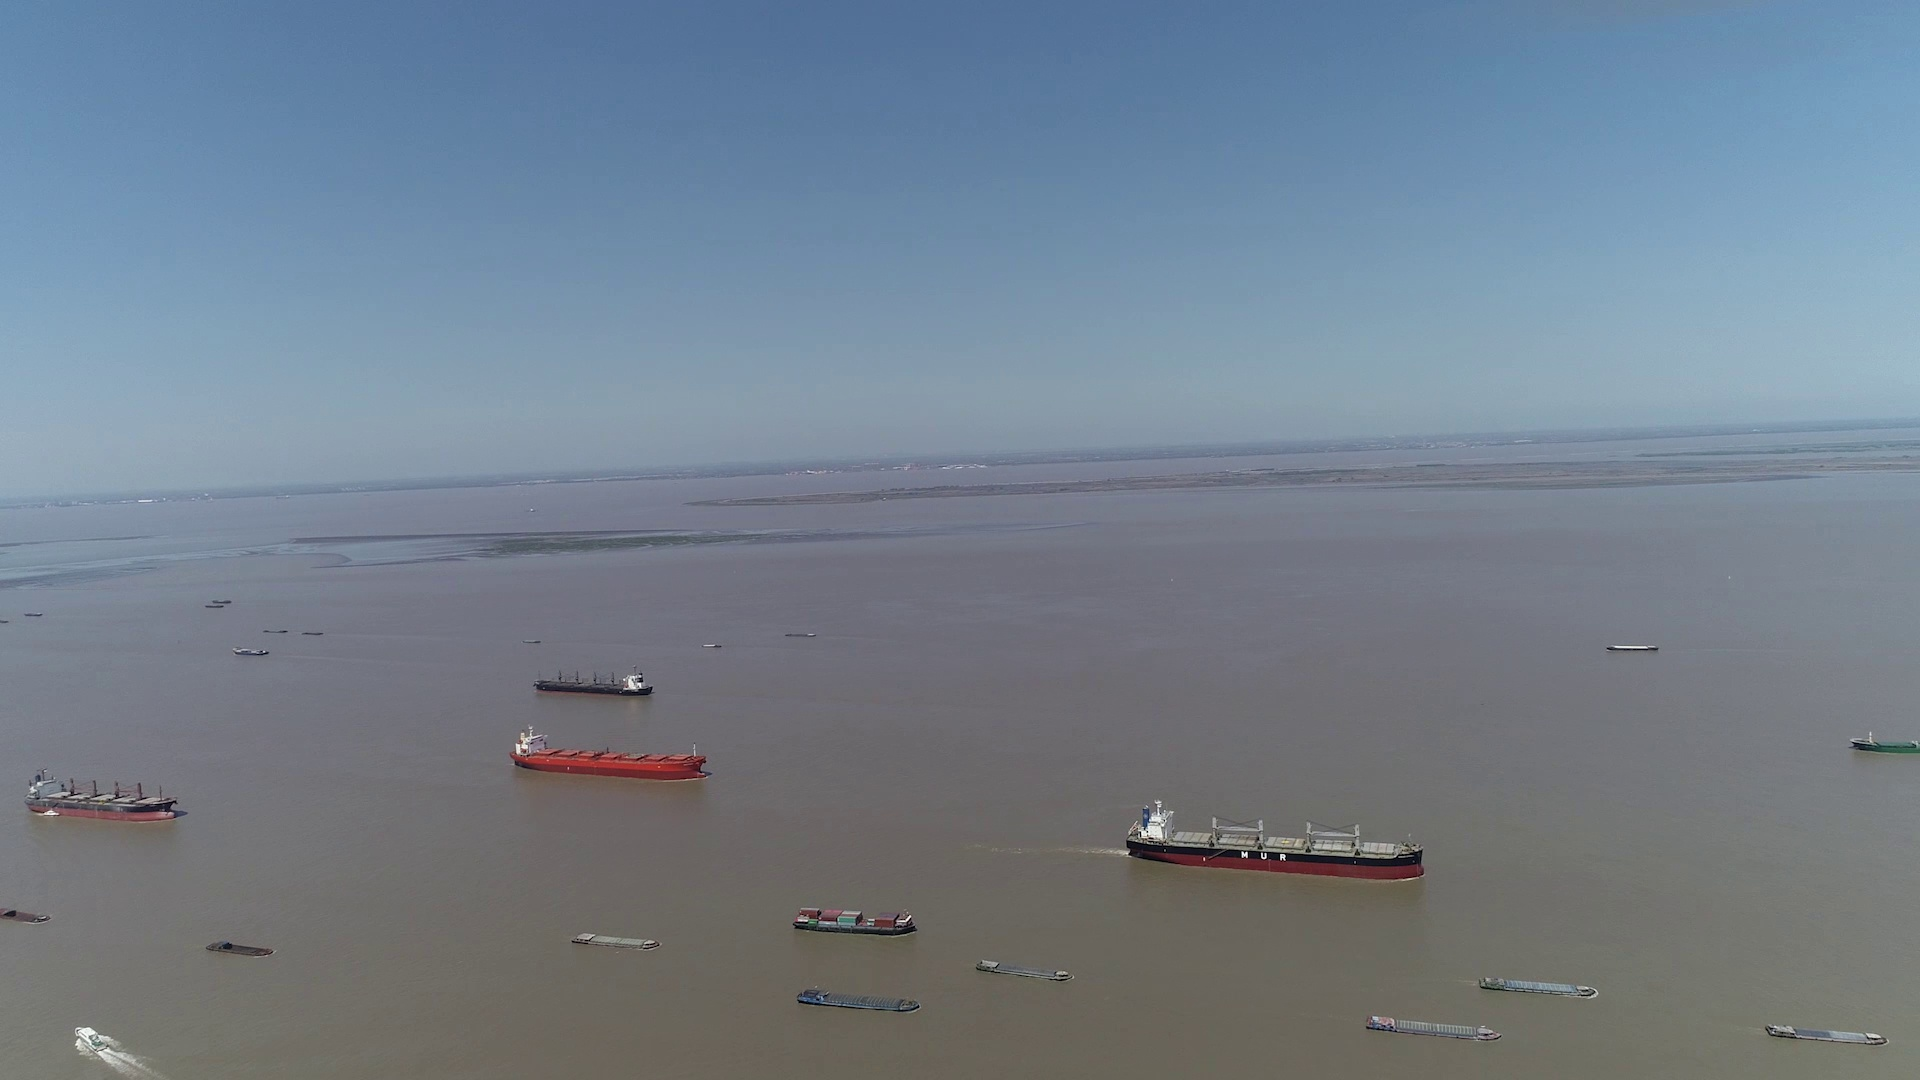ship: (1129, 799, 1422, 882), (510, 724, 704, 779), (516, 696, 680, 748), (28, 769, 181, 823), (791, 906, 916, 938), (1366, 1015, 1501, 1042), (535, 666, 651, 696), (796, 988, 920, 1013), (1763, 1022, 1886, 1044), (1478, 976, 1597, 998), (973, 957, 1071, 981), (1849, 731, 1917, 756), (574, 931, 663, 949), (76, 1026, 121, 1058), (207, 942, 276, 957), (0, 906, 47, 923), (1606, 642, 1659, 651), (233, 646, 270, 655)
